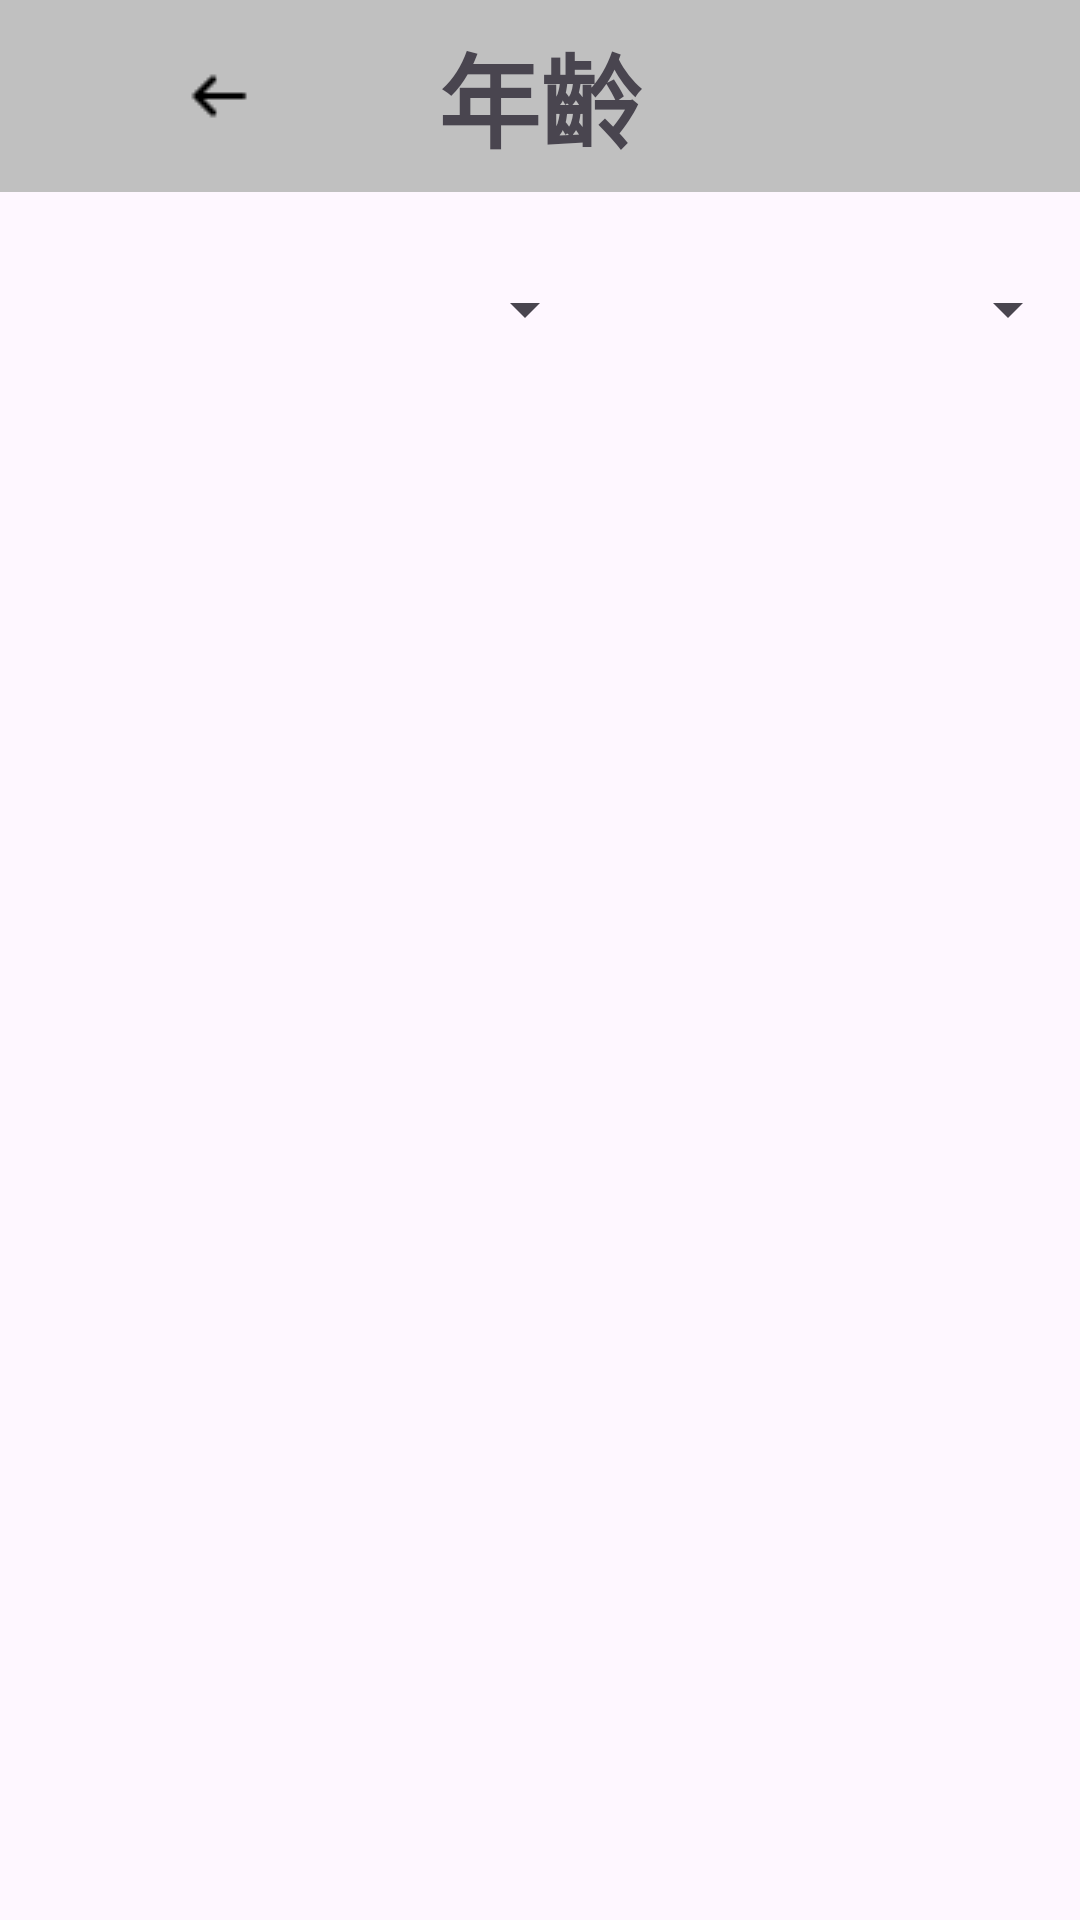

Where to tap for icons on this 1080 x 1920 app screen, as (x=x, y=y):
arrow left: (x=219, y=96)
